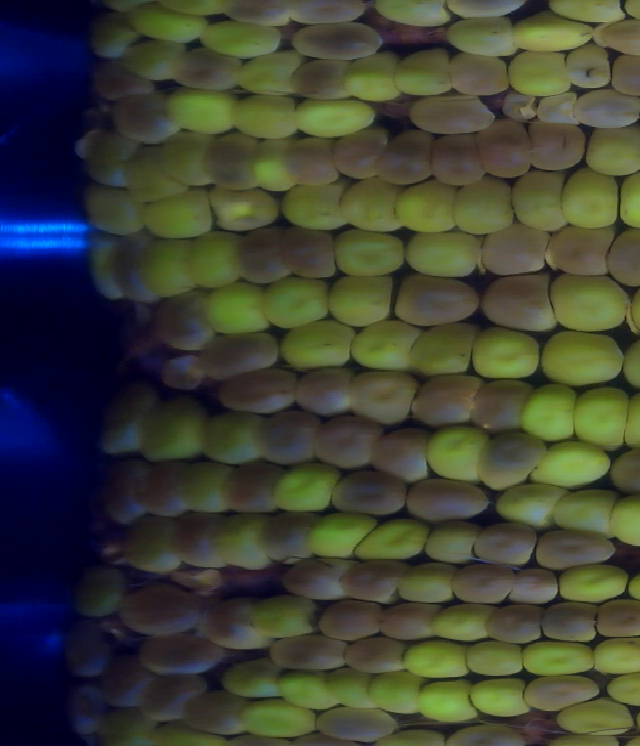fluorescent: (541, 266, 636, 338), (128, 391, 213, 467), (535, 325, 628, 393), (343, 314, 426, 379), (523, 437, 619, 493), (465, 320, 545, 386), (506, 164, 575, 238), (554, 160, 622, 235), (403, 319, 482, 383), (120, 139, 193, 208), (565, 380, 634, 453), (197, 275, 278, 337), (259, 267, 335, 332), (75, 175, 153, 238), (161, 82, 247, 139), (275, 316, 359, 374), (284, 92, 383, 141), (347, 512, 433, 568), (446, 172, 522, 235), (389, 176, 465, 239), (136, 185, 220, 242), (401, 226, 485, 283), (322, 269, 398, 332), (420, 420, 496, 483), (132, 234, 202, 302), (116, 512, 188, 578), (263, 459, 342, 519), (184, 223, 247, 297), (331, 222, 410, 281), (273, 175, 353, 233), (195, 407, 268, 469), (74, 123, 141, 189), (206, 509, 275, 573), (244, 588, 324, 643), (506, 8, 597, 56), (167, 454, 235, 518), (203, 182, 285, 235), (335, 174, 406, 235), (122, 1, 211, 49), (225, 89, 304, 143), (553, 692, 640, 741), (547, 483, 623, 539), (515, 379, 582, 442), (227, 46, 305, 100), (441, 12, 521, 64), (196, 15, 288, 60), (152, 127, 215, 192), (67, 559, 132, 622), (425, 598, 505, 649), (303, 508, 377, 563), (503, 44, 575, 100), (76, 229, 127, 308), (492, 478, 567, 531), (547, 562, 634, 607), (235, 697, 326, 740), (417, 514, 487, 568), (462, 673, 536, 724), (270, 664, 345, 714), (218, 651, 290, 703), (412, 676, 485, 727), (391, 44, 457, 100), (395, 634, 472, 682), (363, 666, 432, 719), (514, 637, 605, 677), (116, 34, 190, 83), (83, 4, 142, 65), (581, 121, 640, 180), (344, 49, 404, 107), (386, 562, 461, 606), (320, 663, 383, 714), (462, 637, 535, 681), (247, 133, 299, 194), (89, 702, 155, 746), (145, 716, 235, 746), (368, 1, 454, 32), (585, 633, 640, 679), (540, 1, 628, 29), (604, 489, 640, 554), (609, 165, 640, 232), (603, 669, 640, 709)
nonfluorescent: (390, 269, 486, 329), (477, 269, 560, 333), (469, 429, 552, 493), (191, 328, 286, 383), (343, 363, 422, 429), (115, 581, 208, 637), (282, 17, 388, 66), (95, 386, 160, 465), (104, 228, 166, 310), (325, 465, 415, 521), (305, 410, 385, 472), (476, 219, 555, 281), (402, 473, 491, 527), (403, 89, 499, 139), (543, 220, 620, 282), (406, 368, 483, 430), (531, 525, 624, 574), (474, 114, 539, 184), (365, 425, 435, 489), (271, 221, 342, 284), (198, 596, 271, 657), (252, 406, 322, 469), (308, 702, 408, 746), (165, 509, 230, 575), (152, 288, 222, 349), (230, 223, 295, 288), (94, 646, 158, 712), (58, 609, 121, 676), (126, 459, 195, 520), (214, 365, 299, 414), (425, 129, 489, 194), (521, 116, 590, 176), (101, 92, 179, 145), (310, 592, 388, 645), (372, 128, 436, 192), (138, 629, 225, 676), (132, 669, 210, 721), (515, 670, 607, 714), (464, 369, 527, 433), (465, 518, 541, 571), (277, 551, 353, 604), (95, 455, 150, 527), (218, 458, 283, 518), (293, 362, 359, 421), (174, 687, 253, 736), (328, 124, 393, 183), (263, 629, 352, 672), (333, 553, 405, 605), (532, 596, 604, 648), (167, 44, 246, 91), (285, 53, 356, 105), (202, 129, 260, 192), (336, 631, 415, 677), (442, 49, 513, 100), (565, 87, 640, 135), (280, 133, 341, 189), (374, 595, 442, 645), (85, 55, 157, 101), (447, 559, 518, 605), (256, 508, 315, 563), (482, 599, 547, 648), (589, 589, 640, 643), (601, 222, 640, 292), (213, 1, 292, 32), (284, 1, 371, 29), (502, 568, 564, 606), (154, 349, 208, 391), (593, 15, 640, 61), (65, 688, 112, 733), (603, 49, 640, 101), (495, 86, 544, 124), (609, 443, 640, 499)
